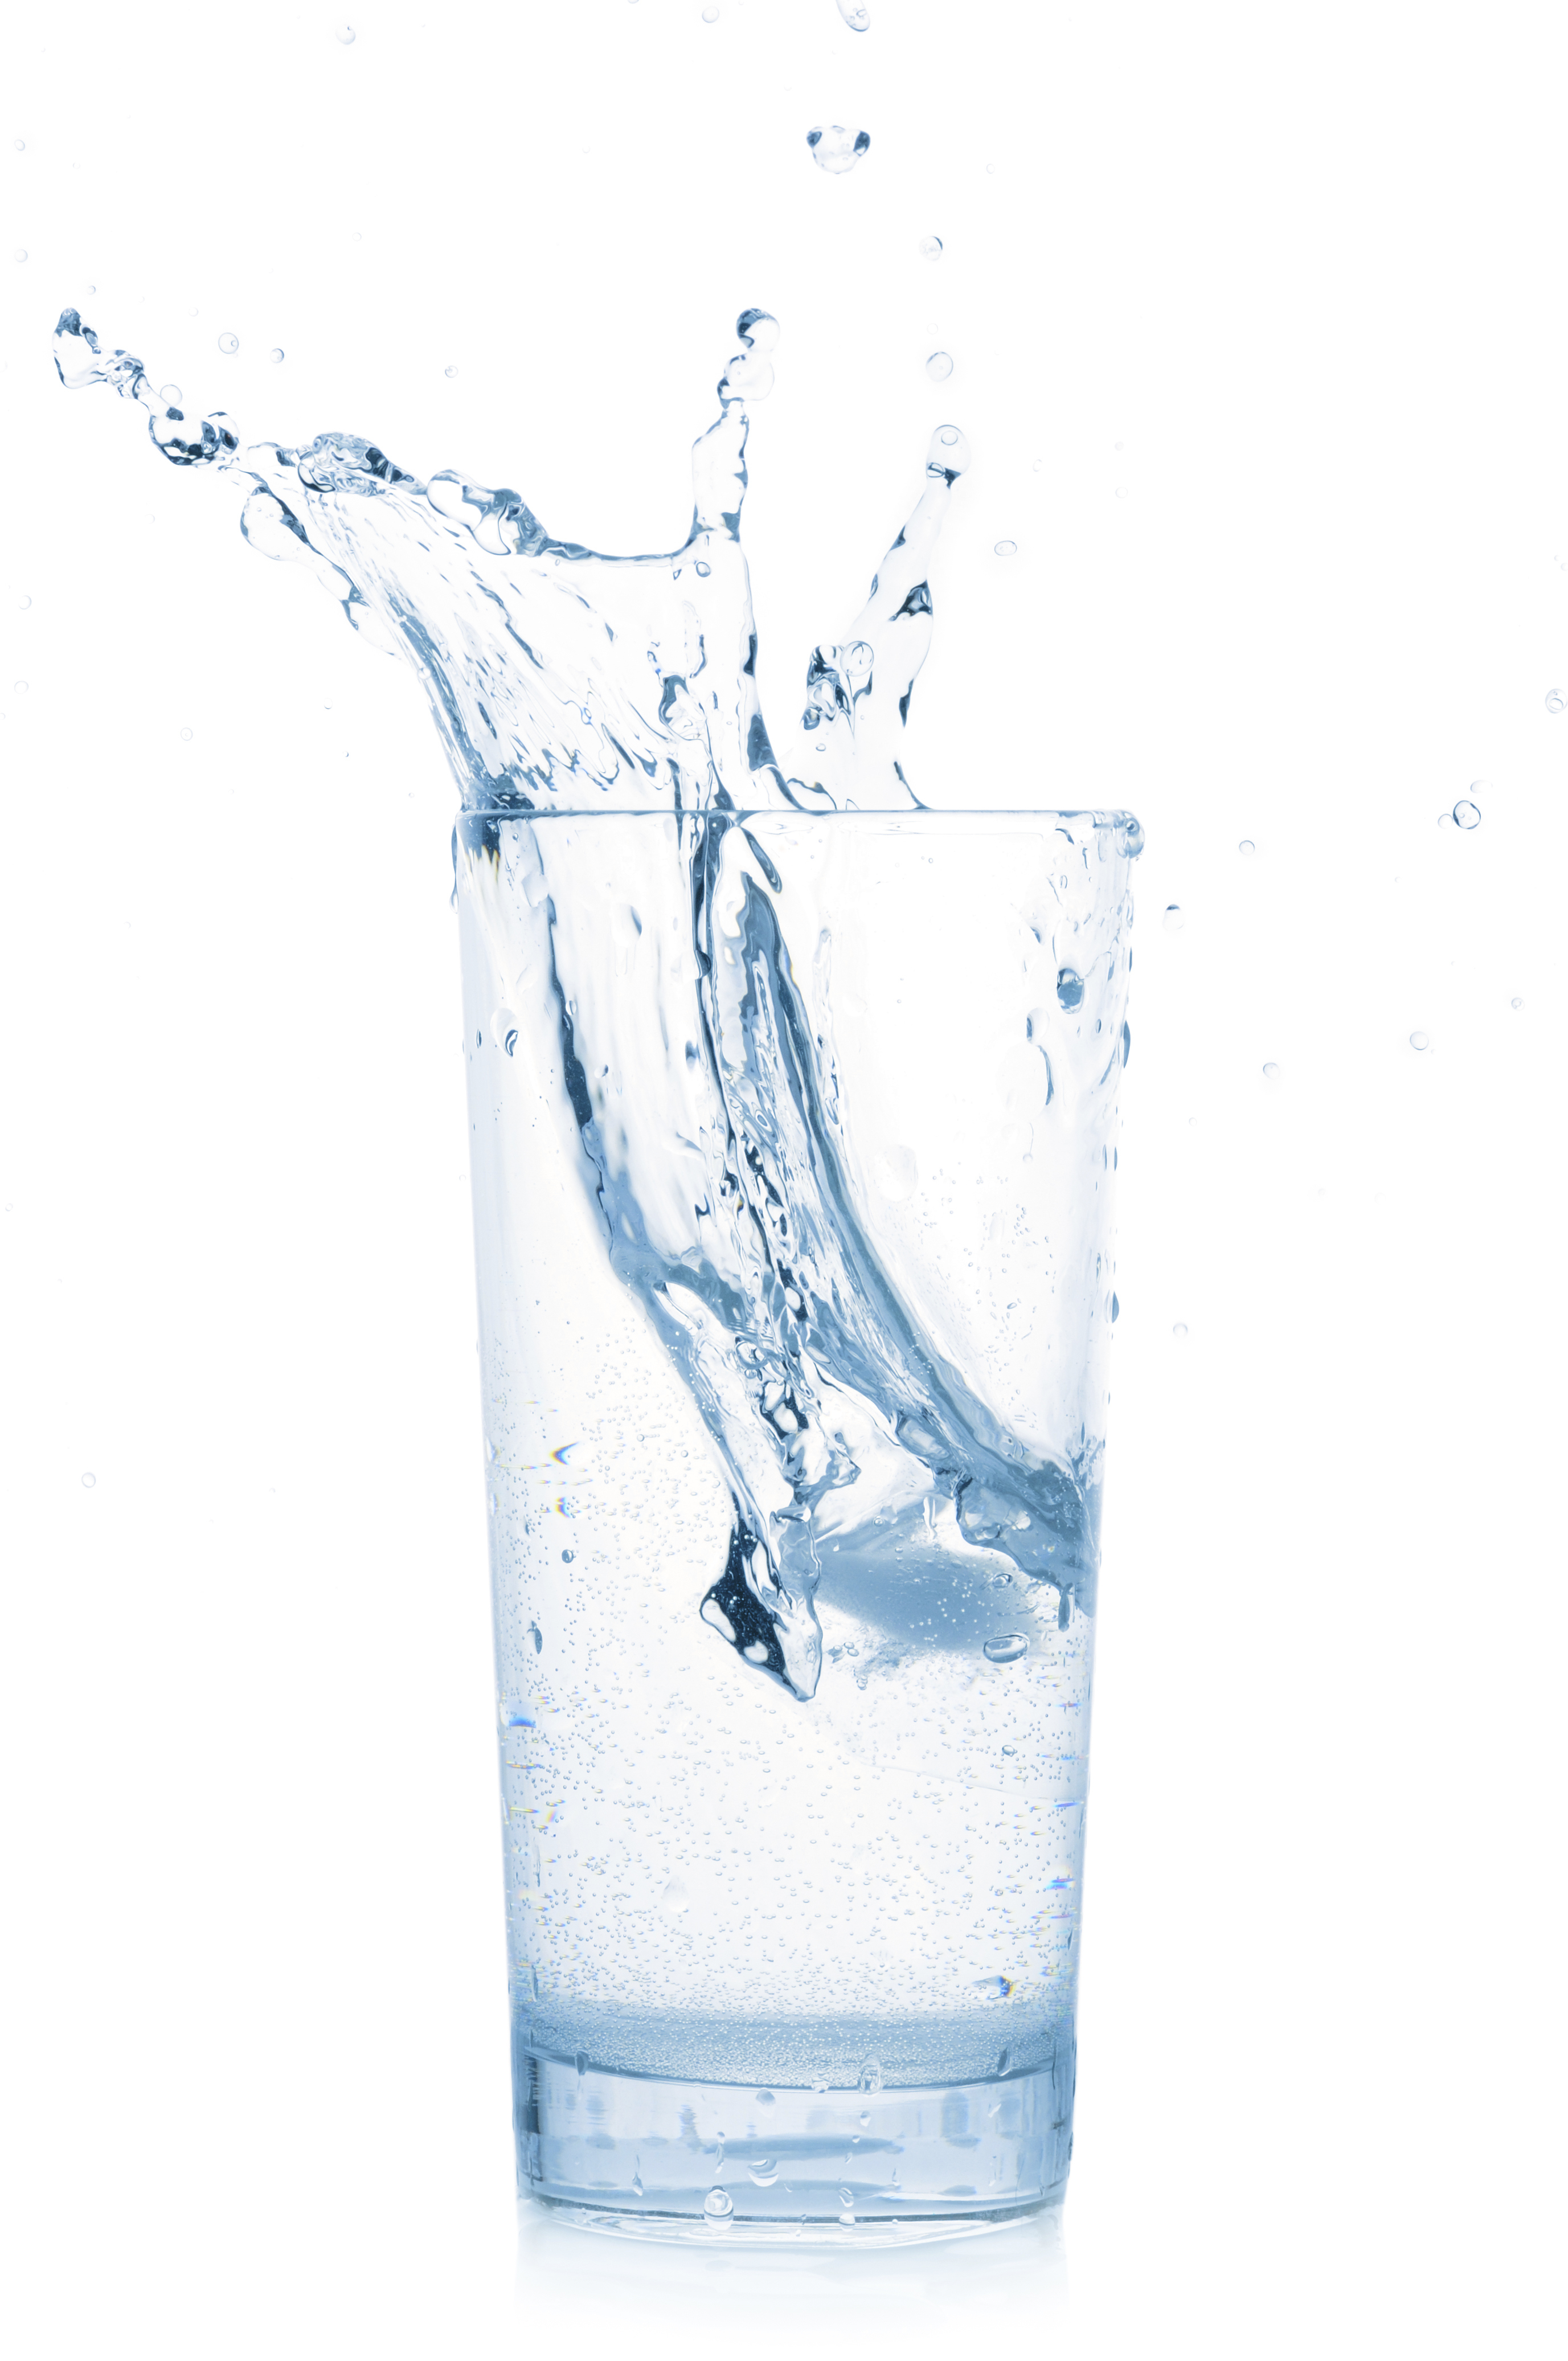glass of water: (535, 915, 1052, 2084)
